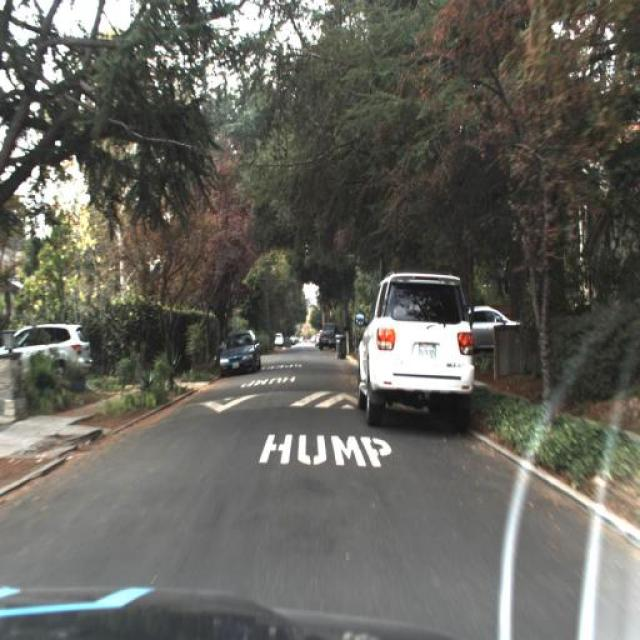car: (354, 264, 474, 436), (2, 317, 96, 383), (218, 329, 264, 380), (318, 322, 338, 347), (268, 326, 284, 346)
